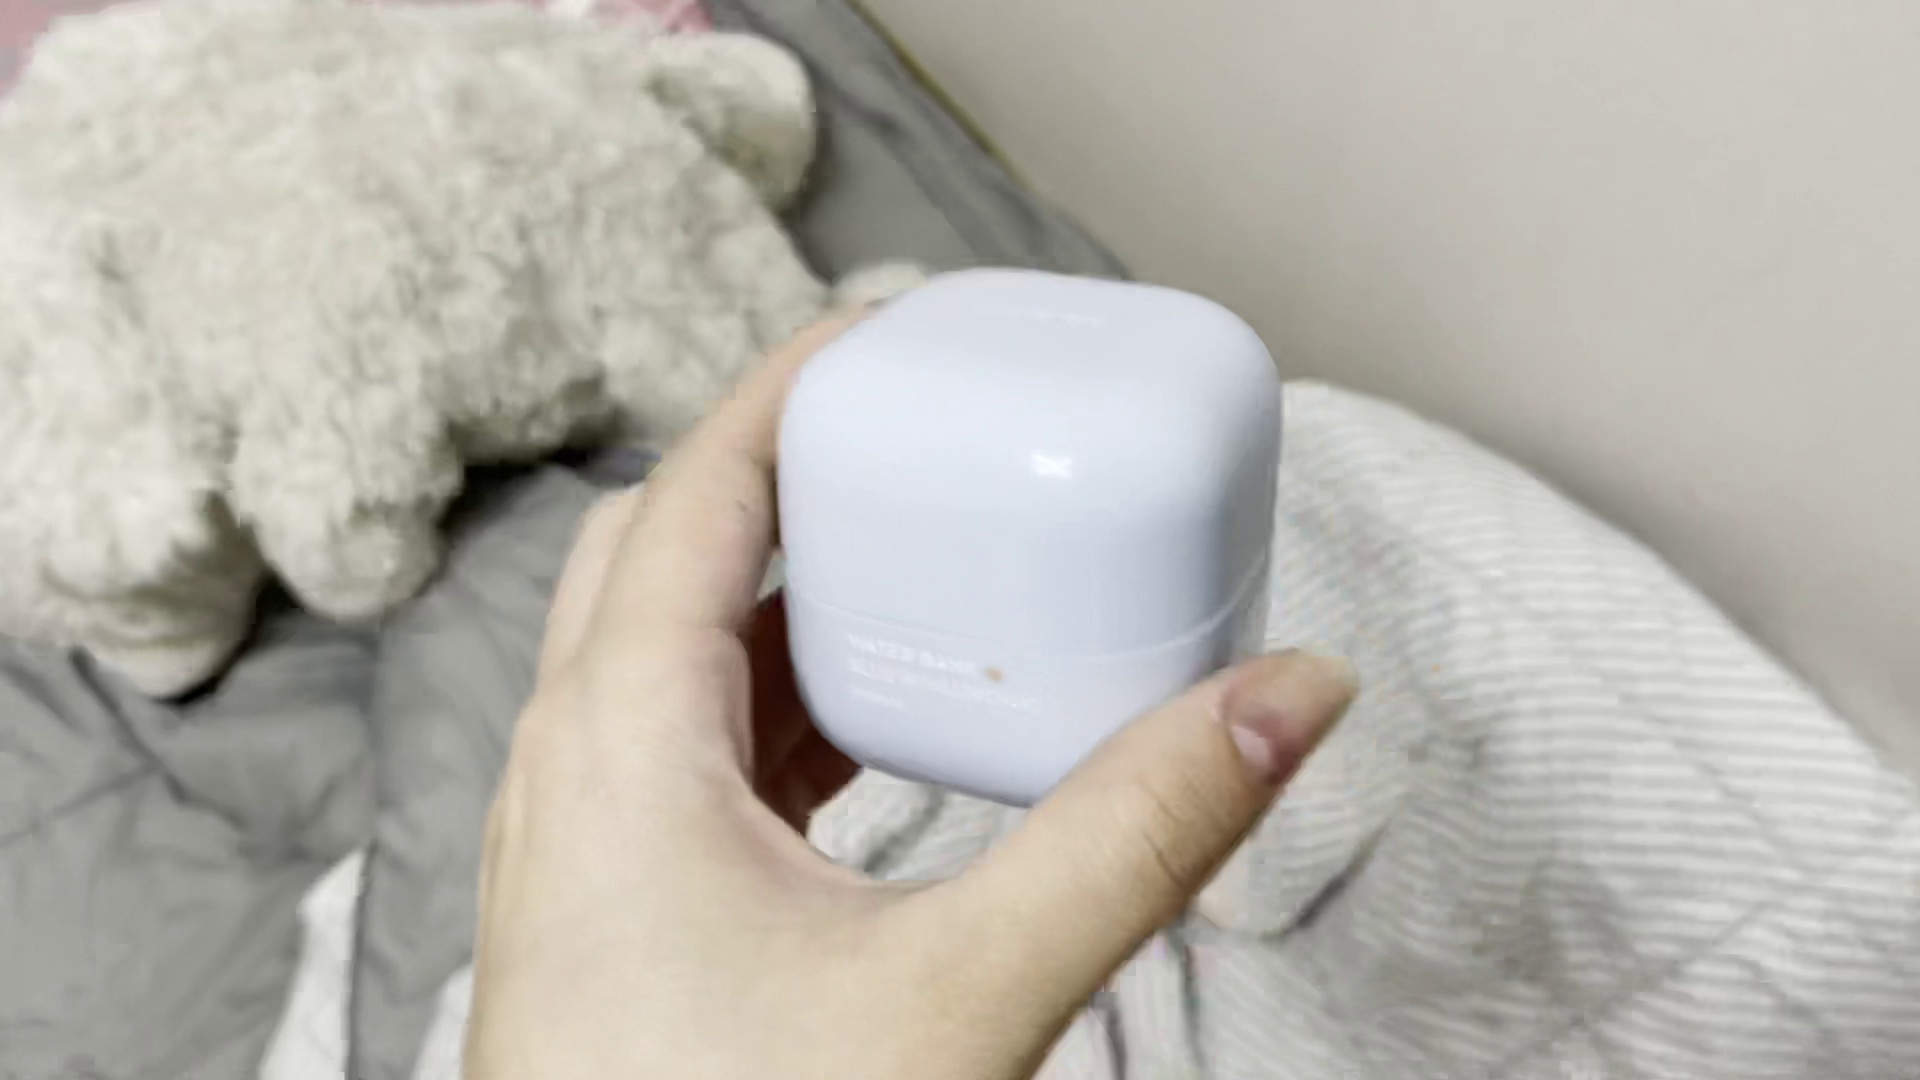cream: (775, 262, 1288, 807)
